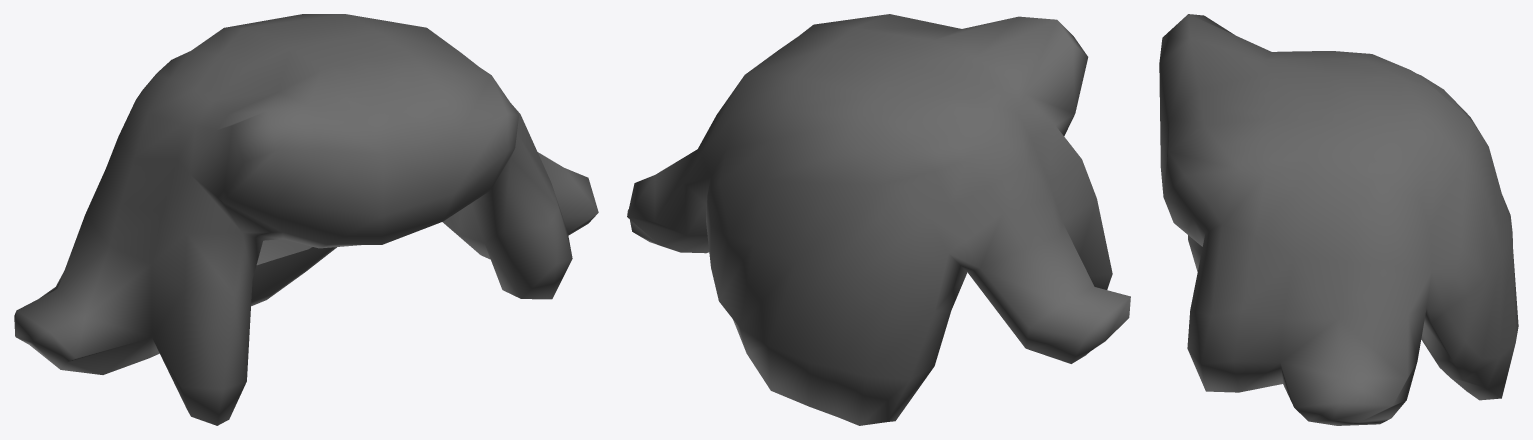
File: Charakter_Woman_hair.FBX
3 views of the same model, side by side, from view 1: azimuth 30°, elevation 25°; view 2: azimuth 150°, elevation 25°; view 3: azimuth 270°, elevation 25° (orthographic). The views are drawn at different scales.
Visible parts, largest first — view 1: Charakter_Woman_hair; view 2: Charakter_Woman_hair; view 3: Charakter_Woman_hair.
Boxes of the visible parts, left/top/right/bottom form: Charakter_Woman_hair: left=14, top=14, right=598, bottom=425; Charakter_Woman_hair: left=627, top=14, right=1130, bottom=425; Charakter_Woman_hair: left=1159, top=14, right=1518, bottom=425.
Bounding box in the file's own units: 232 × 140 × 144.
